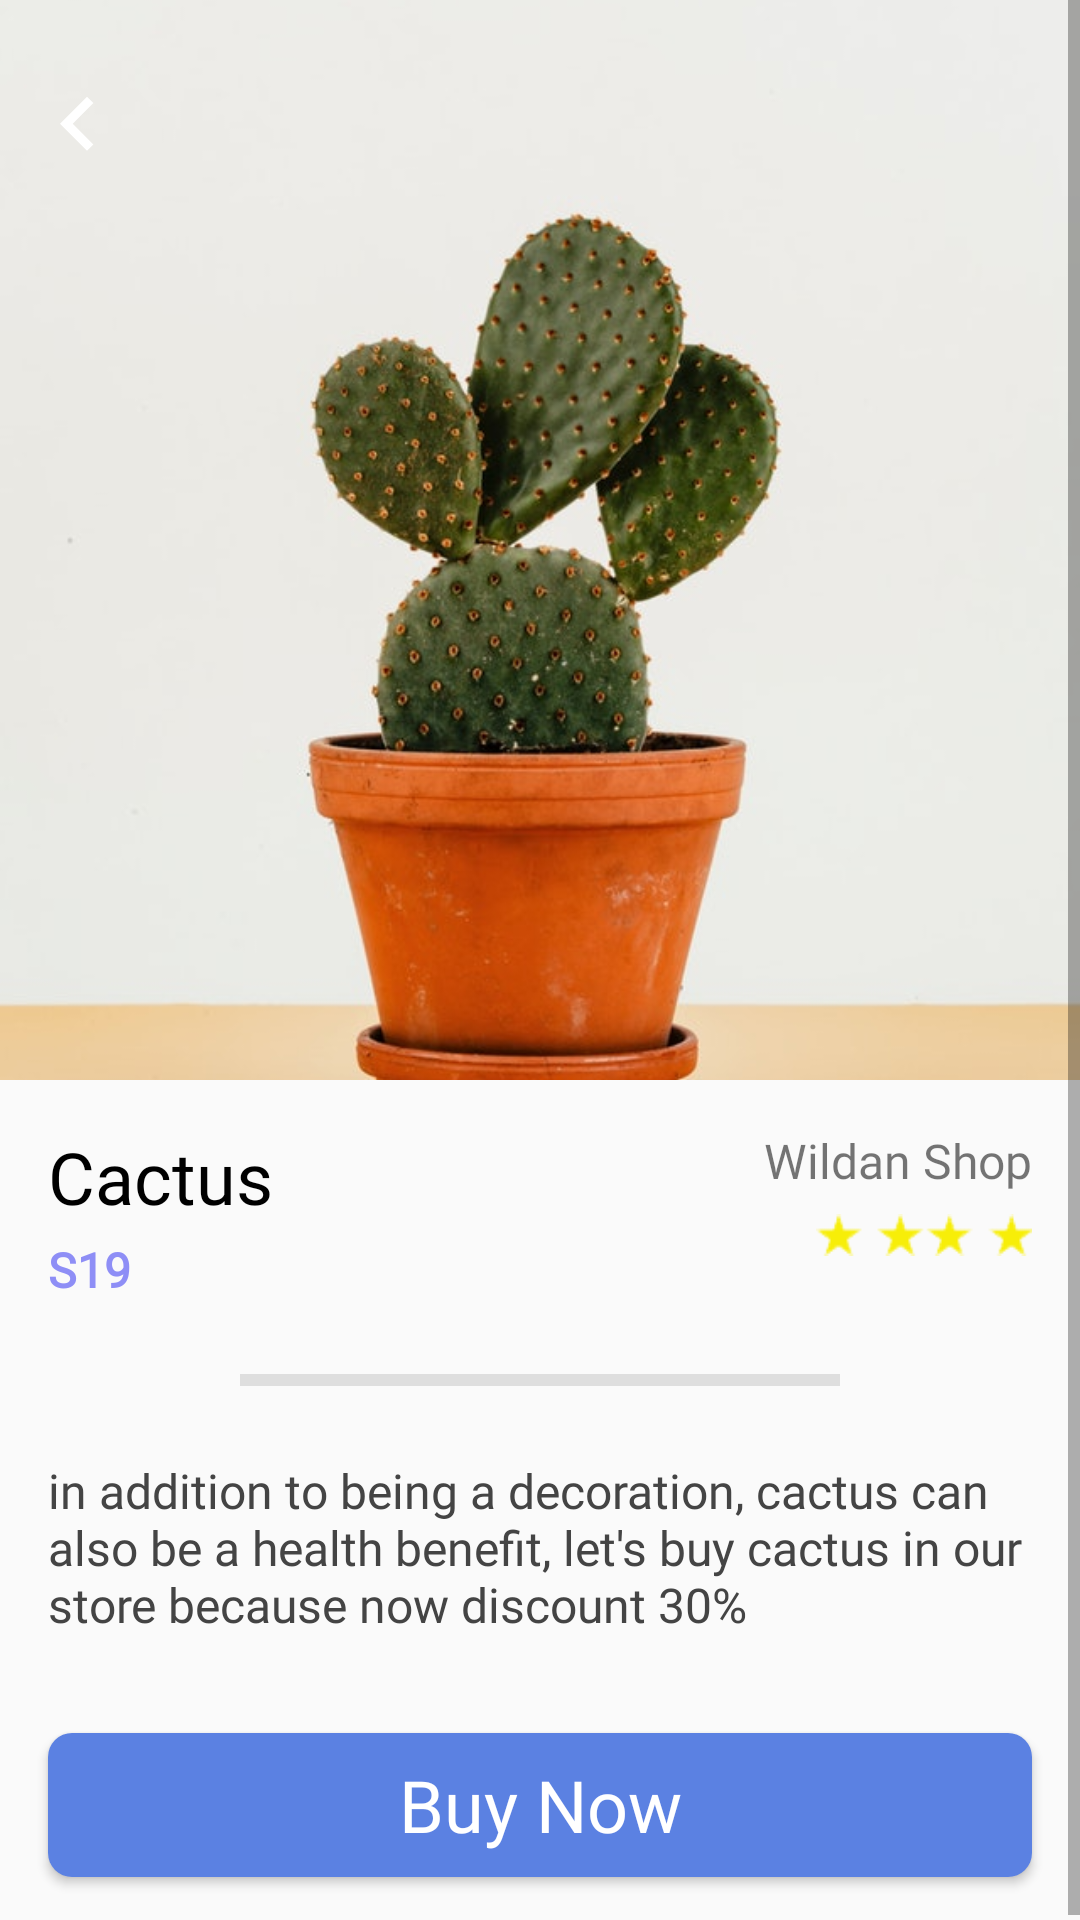

Where to tap for icons on this 1080 x 1920 app screen, as (x,y):
four star: (924,1235)
keyboard arrow left: (77,124)
